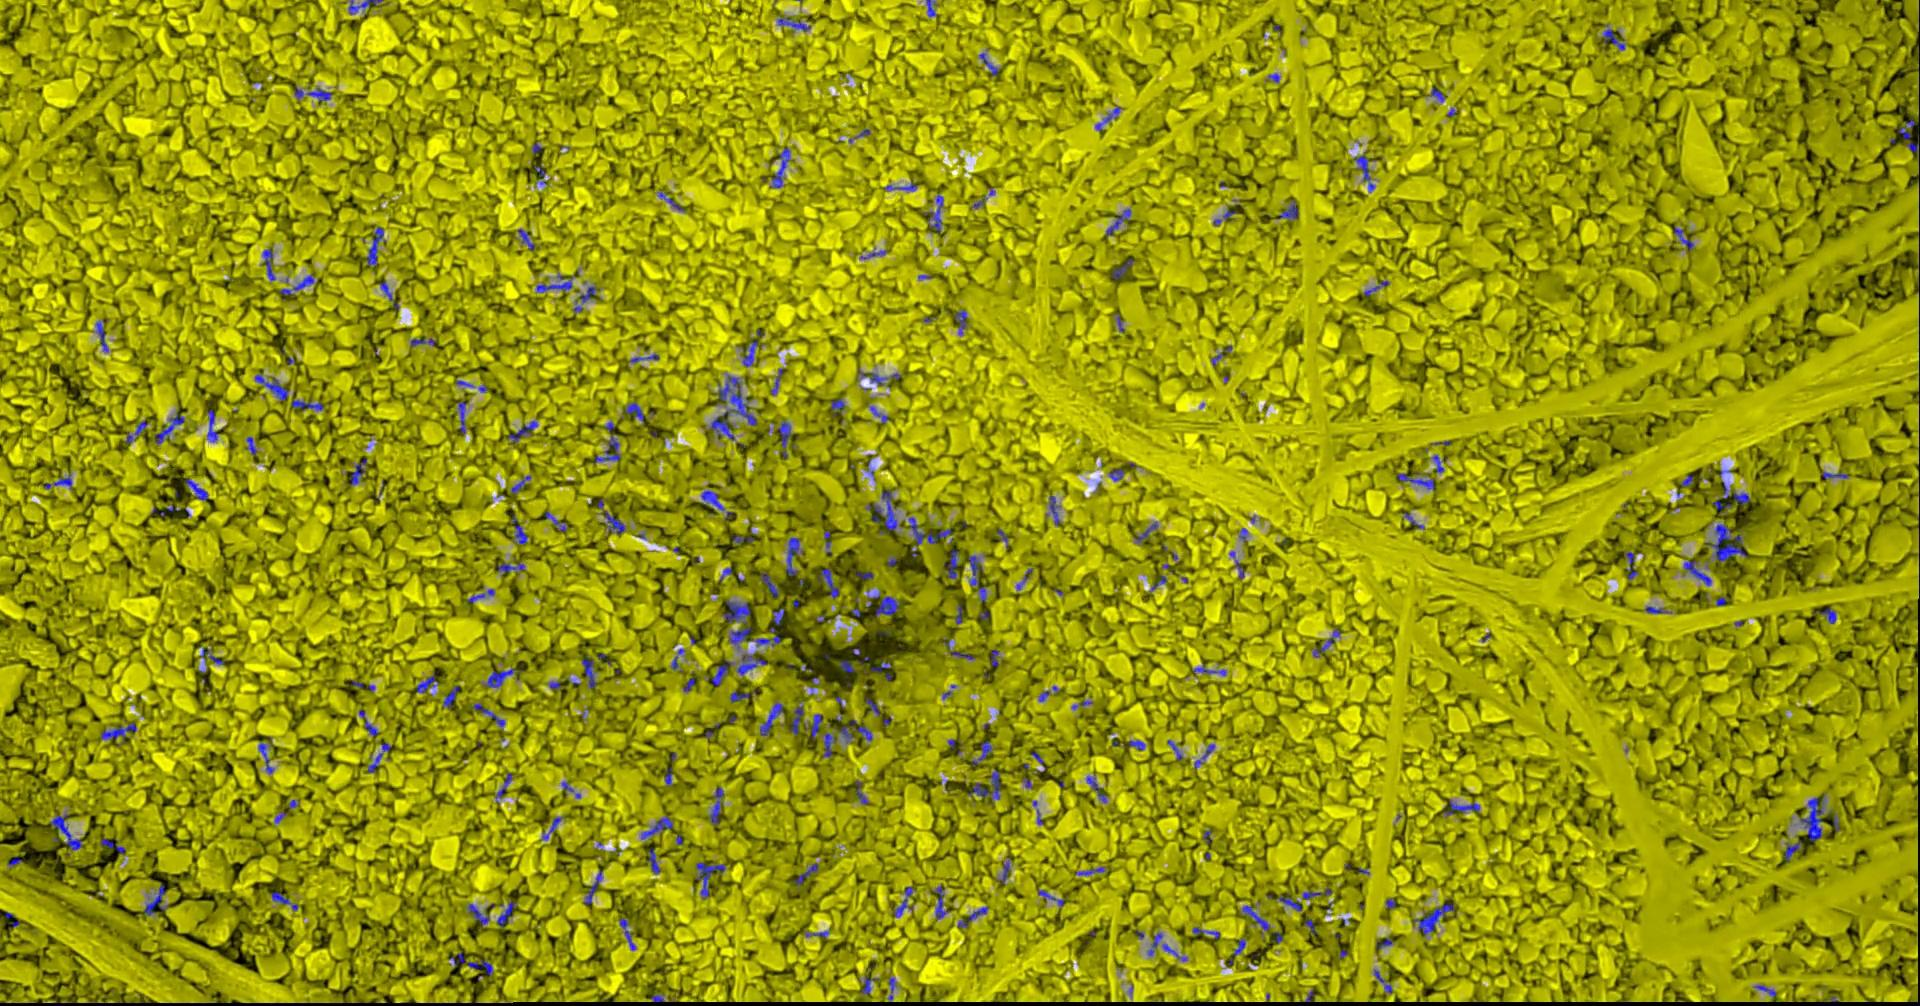ant: (710, 373, 756, 439), (1705, 525, 1746, 561), (1413, 898, 1454, 935), (867, 489, 900, 530), (908, 517, 950, 549), (723, 600, 750, 647), (750, 607, 783, 647), (50, 814, 83, 848), (1799, 796, 1823, 841), (594, 420, 620, 462), (448, 951, 491, 976), (695, 862, 724, 898), (254, 373, 288, 400), (154, 414, 184, 443), (971, 768, 999, 799), (921, 196, 943, 232), (279, 274, 312, 298), (471, 702, 504, 727), (759, 702, 783, 735), (867, 592, 899, 616), (367, 741, 391, 772), (770, 147, 789, 187), (366, 226, 385, 265), (1354, 154, 1374, 191), (1313, 627, 1340, 655), (100, 721, 135, 743), (857, 367, 900, 384), (1683, 560, 1710, 586), (1241, 904, 1269, 930), (1898, 118, 1919, 152), (641, 815, 672, 838), (1105, 208, 1130, 235), (571, 286, 597, 312), (1396, 473, 1434, 490), (785, 537, 803, 575), (737, 652, 766, 674), (957, 906, 987, 929), (507, 420, 537, 442), (817, 568, 838, 598), (143, 884, 165, 915), (583, 870, 602, 904), (485, 667, 517, 687), (1722, 483, 1749, 507), (536, 274, 571, 292), (1443, 798, 1479, 814), (290, 392, 323, 410), (293, 86, 331, 102), (1086, 774, 1106, 801), (258, 737, 273, 774), (893, 887, 912, 916), (794, 862, 818, 885), (709, 786, 723, 826), (1603, 24, 1624, 50), (710, 661, 731, 686), (1192, 743, 1214, 768), (358, 708, 377, 735), (618, 917, 635, 949), (124, 420, 147, 443), (742, 340, 762, 366), (497, 901, 516, 927), (510, 513, 527, 544), (582, 655, 597, 688), (978, 52, 999, 75), (1111, 258, 1133, 281), (185, 478, 207, 500), (603, 511, 625, 533), (542, 815, 563, 840), (778, 420, 791, 459), (759, 572, 778, 597), (971, 741, 990, 766), (495, 772, 512, 801), (657, 192, 683, 210), (1135, 521, 1157, 542), (850, 719, 871, 741), (467, 903, 489, 925), (1672, 226, 1693, 249), (700, 490, 723, 511), (543, 511, 566, 531), (1373, 969, 1392, 993), (348, 0, 383, 13), (777, 17, 809, 30), (262, 248, 276, 279), (1037, 889, 1064, 906), (869, 661, 891, 680), (968, 555, 982, 586), (789, 705, 803, 735), (1363, 279, 1388, 296), (805, 713, 822, 738), (623, 401, 645, 420), (857, 976, 879, 995), (44, 473, 71, 488), (415, 674, 438, 692), (996, 857, 1011, 884), (95, 319, 108, 351), (206, 409, 218, 441), (1213, 208, 1237, 225), (935, 884, 946, 918), (466, 588, 494, 602), (1277, 199, 1298, 218), (350, 459, 366, 484), (517, 227, 535, 249), (1783, 840, 1801, 861), (442, 685, 458, 708), (945, 549, 957, 578), (1302, 887, 1331, 899), (100, 838, 124, 854), (770, 368, 783, 394), (1624, 551, 1637, 579), (1147, 932, 1162, 955), (510, 475, 530, 493), (822, 732, 836, 756), (1277, 895, 1302, 909), (884, 180, 917, 191), (1048, 495, 1059, 525), (954, 309, 966, 334), (648, 847, 660, 873), (855, 780, 869, 803), (1037, 685, 1057, 701), (1191, 666, 1225, 674), (378, 279, 392, 301), (457, 401, 466, 434), (863, 697, 880, 715), (497, 561, 524, 572), (1103, 105, 1120, 122), (1192, 927, 1219, 937), (270, 890, 290, 904), (1074, 866, 1103, 875), (682, 671, 695, 691), (830, 398, 844, 415), (839, 725, 853, 743), (1820, 607, 1835, 622), (729, 691, 750, 701), (1233, 937, 1244, 956), (731, 533, 756, 542), (1430, 86, 1444, 102), (245, 436, 257, 453), (1644, 606, 1671, 614), (410, 338, 436, 345), (823, 530, 830, 555), (924, 0, 936, 17), (838, 661, 855, 672), (1375, 937, 1392, 949), (1109, 467, 1123, 480), (1821, 471, 1848, 478), (1128, 739, 1144, 749), (990, 649, 998, 666), (664, 767, 670, 785)
